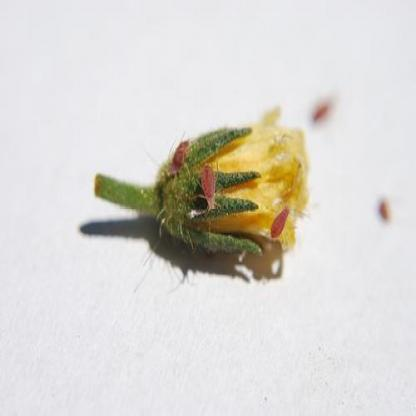aphid: (197, 158, 224, 216), (269, 196, 297, 247), (170, 128, 192, 172)
